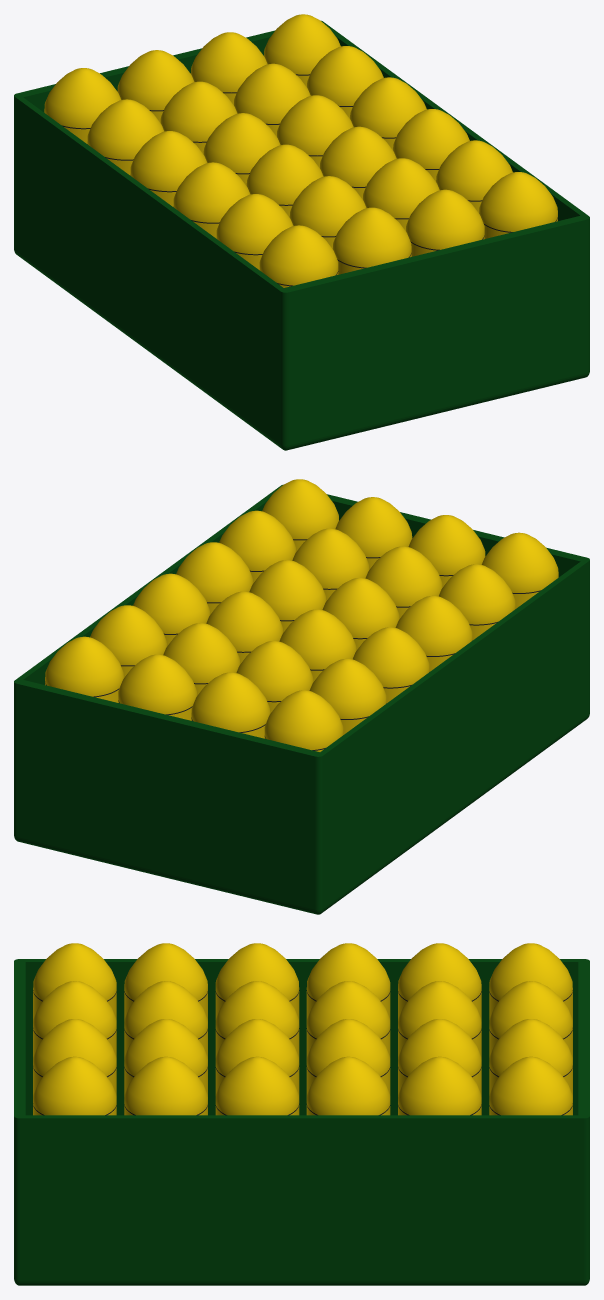
File: ammo.fbx
The picture shows the model from 3 angles, top to bottom: view 1: azimuth 30°, elevation 25°; view 2: azimuth 150°, elevation 25°; view 3: azimuth 270°, elevation 25°; orthographic projection. The views are drawn at different scales.
Visible parts, largest first — view 1: ammo; view 2: ammo; view 3: ammo.
Boxes of the visible parts, bbox=[...] form: ammo: bbox=[14, 14, 589, 450]; ammo: bbox=[14, 479, 589, 914]; ammo: bbox=[14, 943, 589, 1285].
Size of the model in its own units: 146 by 95.4 by 57.61.
